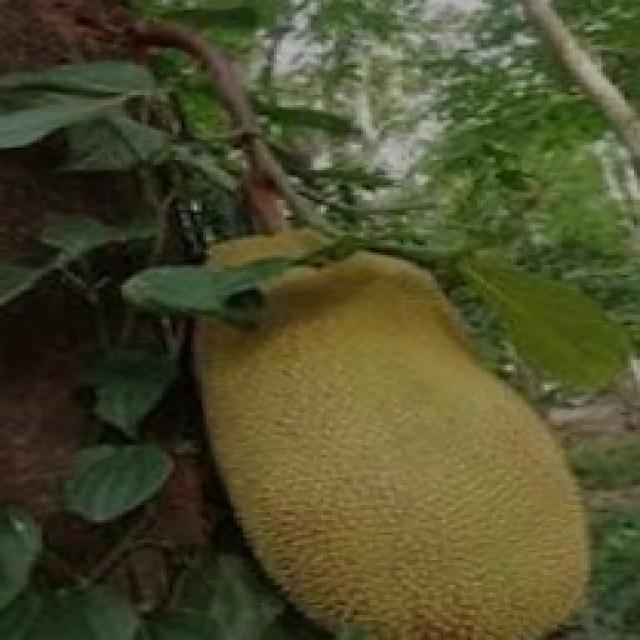Fruit: (190, 225, 628, 640)
